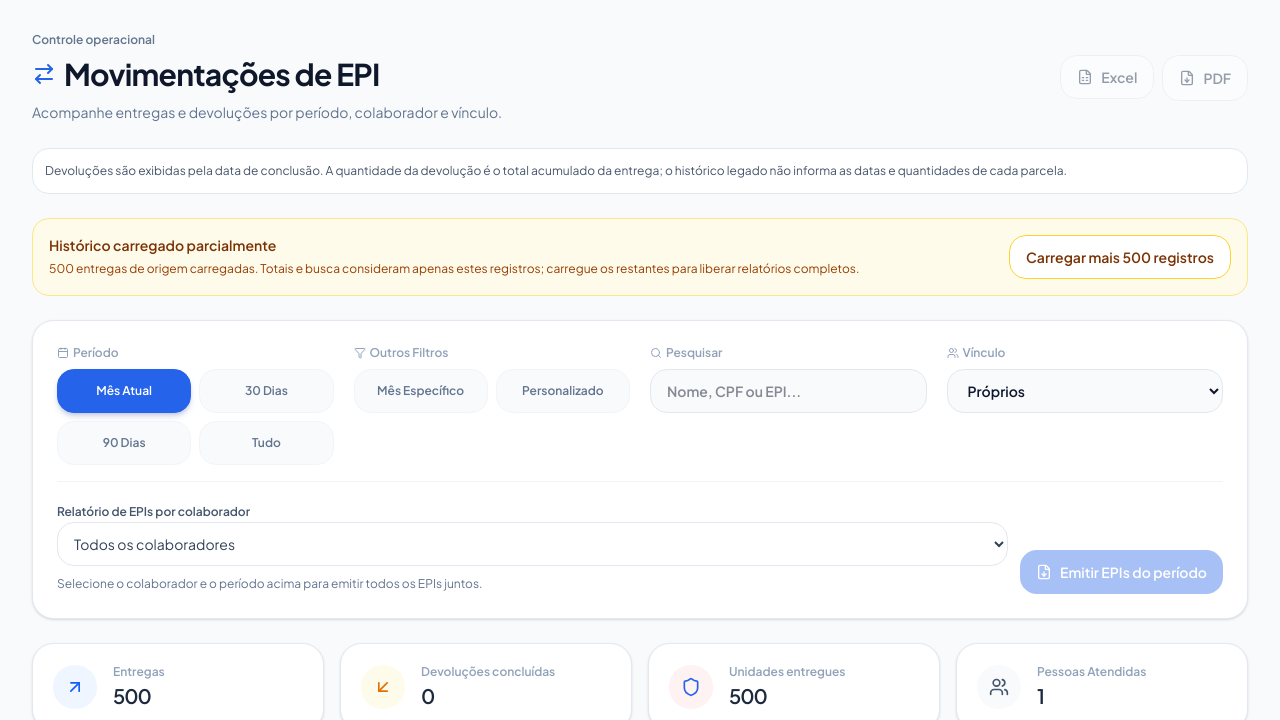
Test: MovementsPage › informa a carga parcial e libera exportação somente após carregar as páginas restantes
Expected: the text "Histórico carregado parcialmente" is shown, [49,236,276,254]
Expected: the button "Excel" is disabled, [1060,55,1154,99]
Click the button "Carregar mais 500 registros" at (1120, 257), box [1009,235,1231,279]
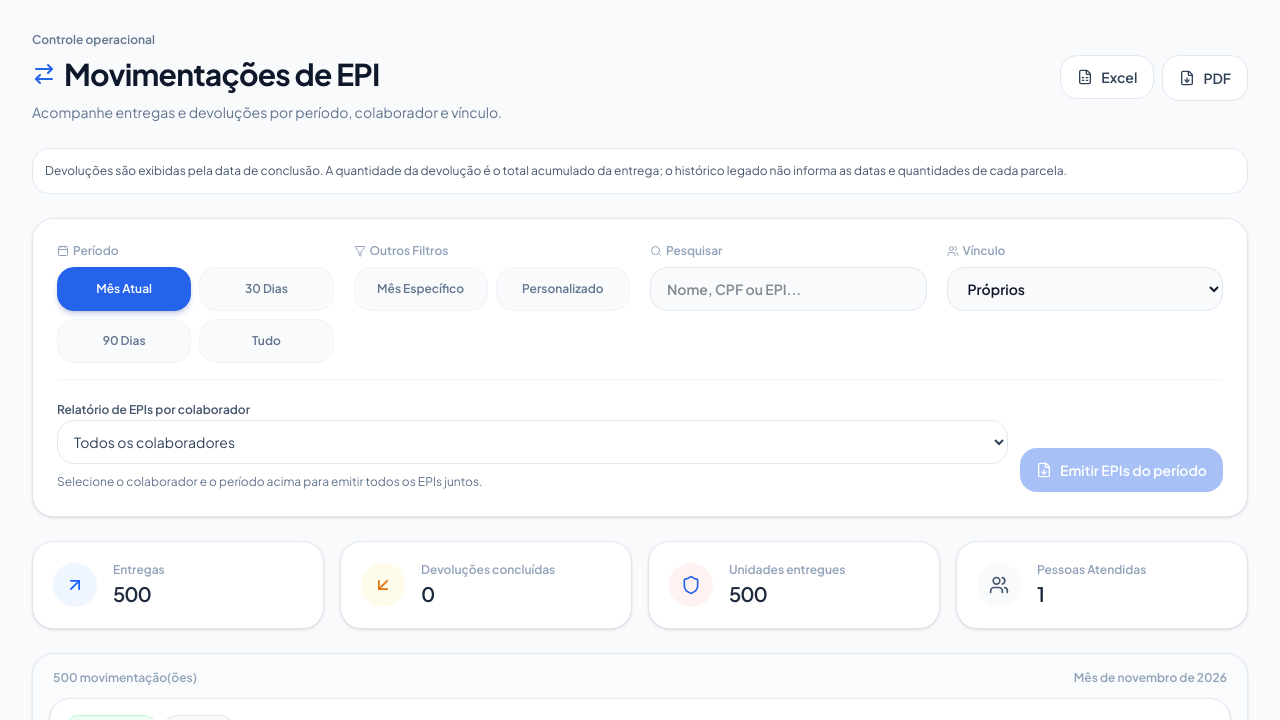
Expected: the text "Histórico carregado parcialmente" is gone
Expected: the button "Excel" is enabled, [1060,55,1154,99]
